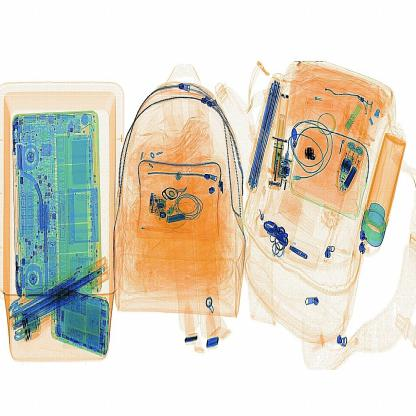scissors: (305, 145, 318, 170)
